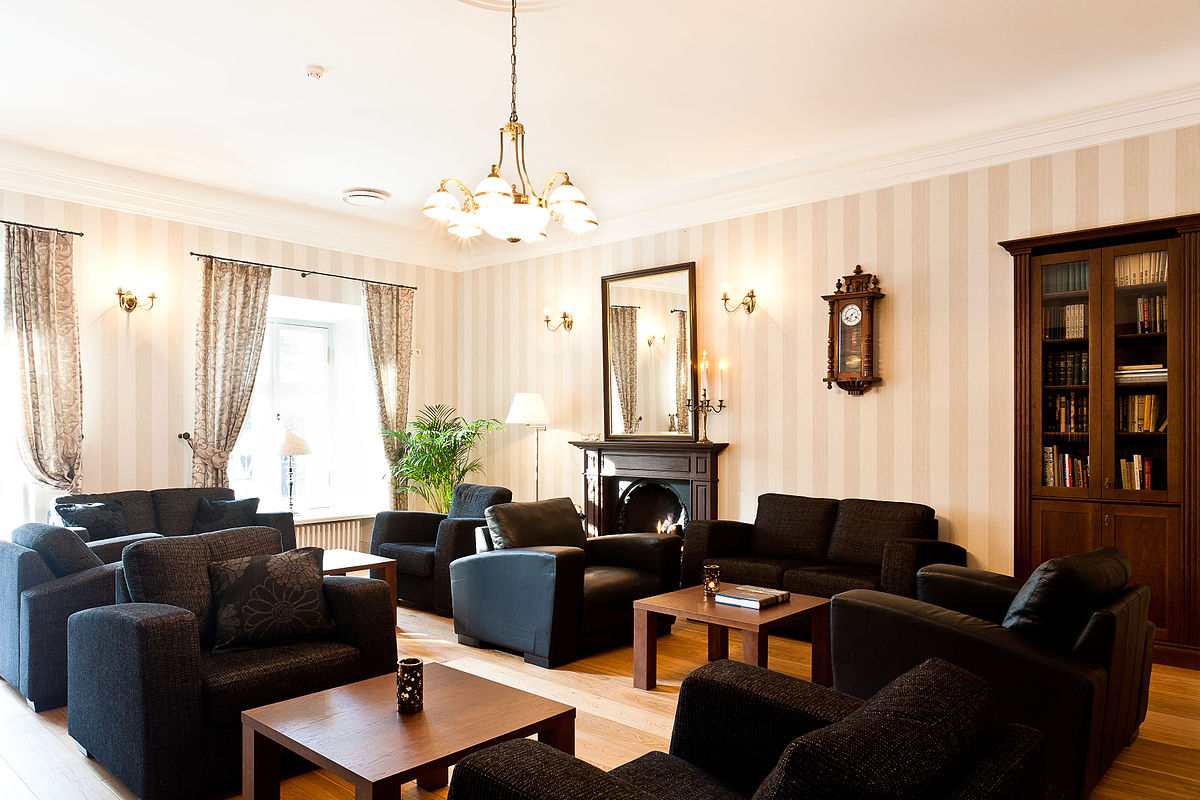meja: (227, 659, 578, 800), (633, 574, 822, 686)
sova: (76, 538, 402, 767), (839, 552, 1167, 753), (459, 498, 669, 673)
